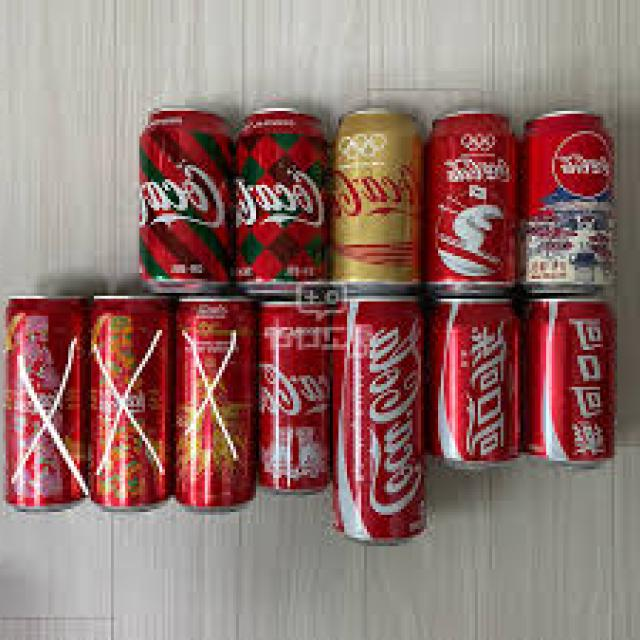Coca-Cola: (332, 287, 426, 549), (259, 296, 327, 502)
